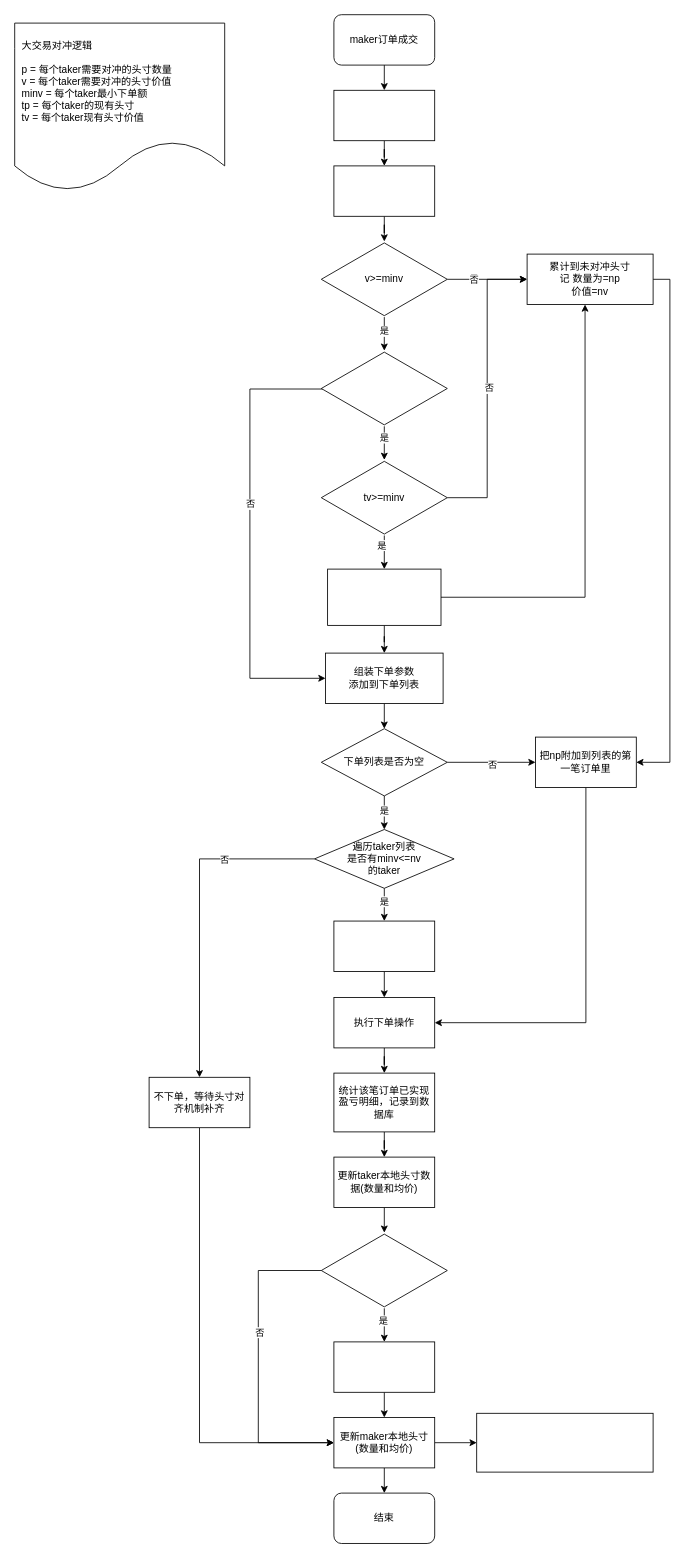
This 691x1558 diagram has some shape labels left out. Each missing label, with the centre of its shape:
卖出tp 剩余未对冲头寸p-tp累计;: (384,596)
开仓价差没有超过配比: (383,1270)
恢复策略: (384,1366)
暂停策略: (384,115)
现货类型&& 订单为空单&& tp<p: (383,388)
组装满足条件的taker的下单参数: (384,945)
这里把maker头寸放在最后更新，是给后续下taker单时"顺带"补齐不平头寸预留可执行逻辑: (564,1442)
遍历taker列表 按对冲配比给各taker分配对冲数量: (384,190)
